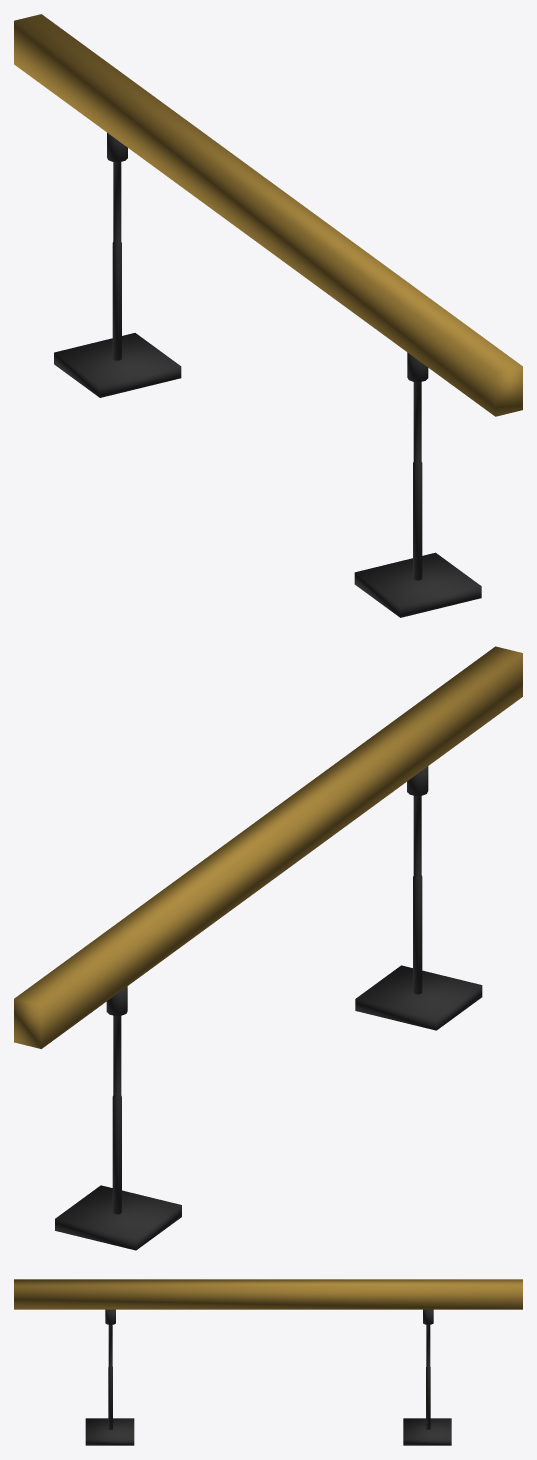
Rendered from gym.obj.
The picture shows the model from 3 angles, top to bottom: view 1: azimuth 30°, elevation 25°; view 2: azimuth 150°, elevation 25°; view 3: azimuth 270°, elevation 25°; orthographic projection. The views are drawn at different scales.
Parts seen in each view (by area): view 1: beam_tan_0, legs_grey_0; view 2: beam_tan_0, legs_grey_0; view 3: beam_tan_0, legs_grey_0.
Boxes of the visible parts, x1,y1,x2,y2 form: beam_tan_0: (14, 14, 522, 416); legs_grey_0: (54, 132, 481, 617); beam_tan_0: (14, 646, 522, 1048); legs_grey_0: (55, 766, 482, 1250); beam_tan_0: (14, 1279, 522, 1309); legs_grey_0: (85, 1309, 451, 1445).
Bounding box in the file's own units: 0.7408 × 2.51 × 7.61.
